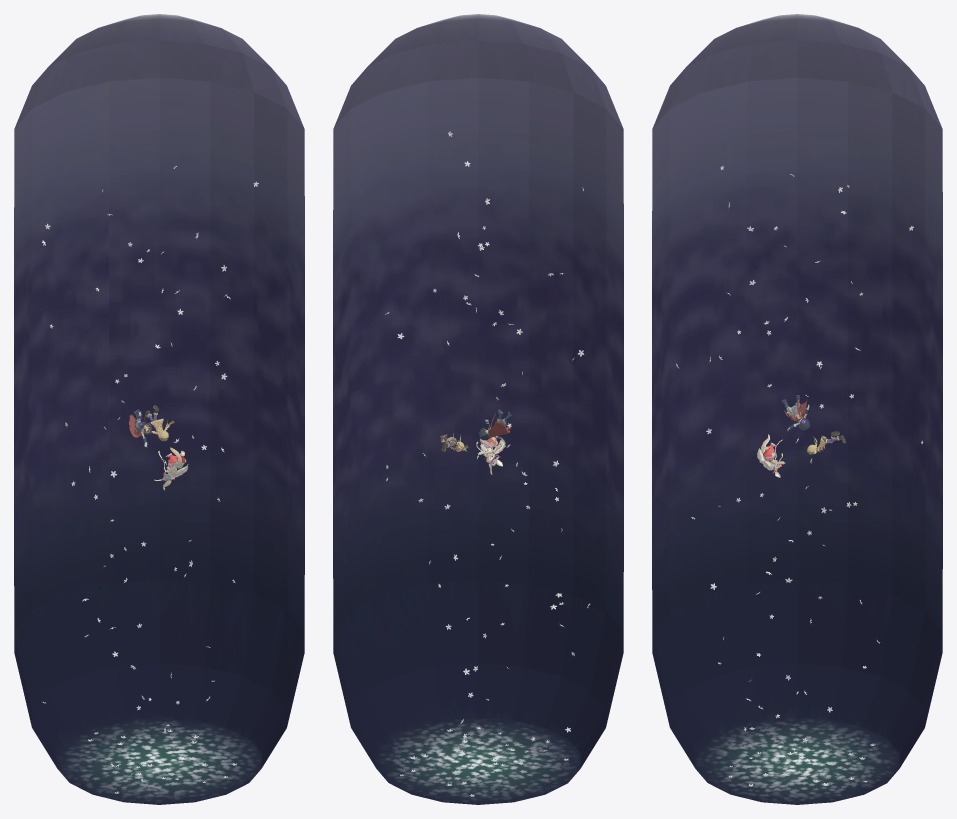
The model's file is trio.glb.
3 views of the same model, side by side, from view 1: azimuth 30°, elevation 25°; view 2: azimuth 150°, elevation 25°; view 3: azimuth 270°, elevation 25° (orthographic).
Parts seen in each view (by area): view 1: AbysscavePartA, Flower_Flower_0; view 2: AbysscavePartA, Flower_Flower_0; view 3: AbysscavePartA, Flower_Flower_0.
Part boxes in pixels (<box>): AbysscavePartA: <box>14,14,304,804</box>; Flower_Flower_0: <box>42,166,258,793</box>; AbysscavePartA: <box>333,14,623,804</box>; Flower_Flower_0: <box>385,131,589,796</box>; AbysscavePartA: <box>652,14,942,804</box>; Flower_Flower_0: <box>676,166,923,786</box>.
Bounding box in the file's own units: 434 × 1192 × 427.
35 materials, 28 textured.
